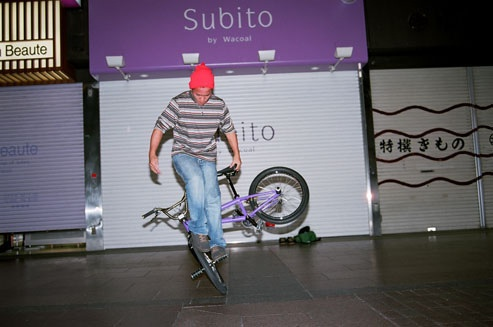head: (190, 62, 215, 107)
person: (145, 64, 242, 264)
